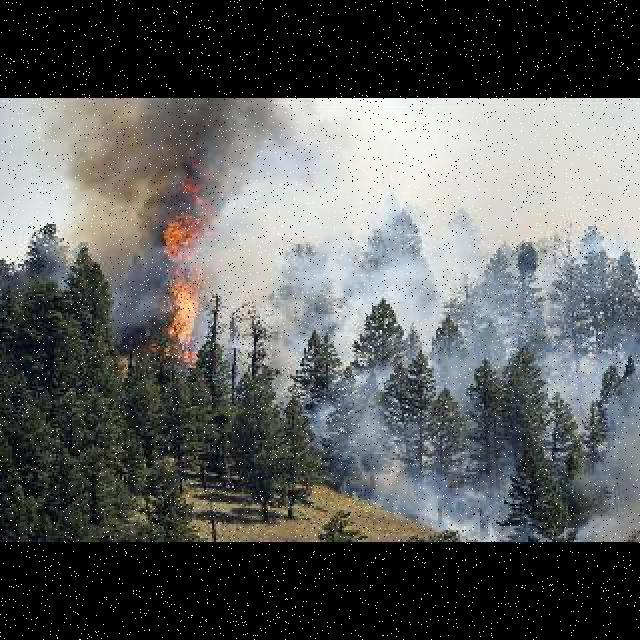fire: (165, 218, 204, 353)
smoke: (313, 145, 640, 536), (54, 102, 308, 320)
